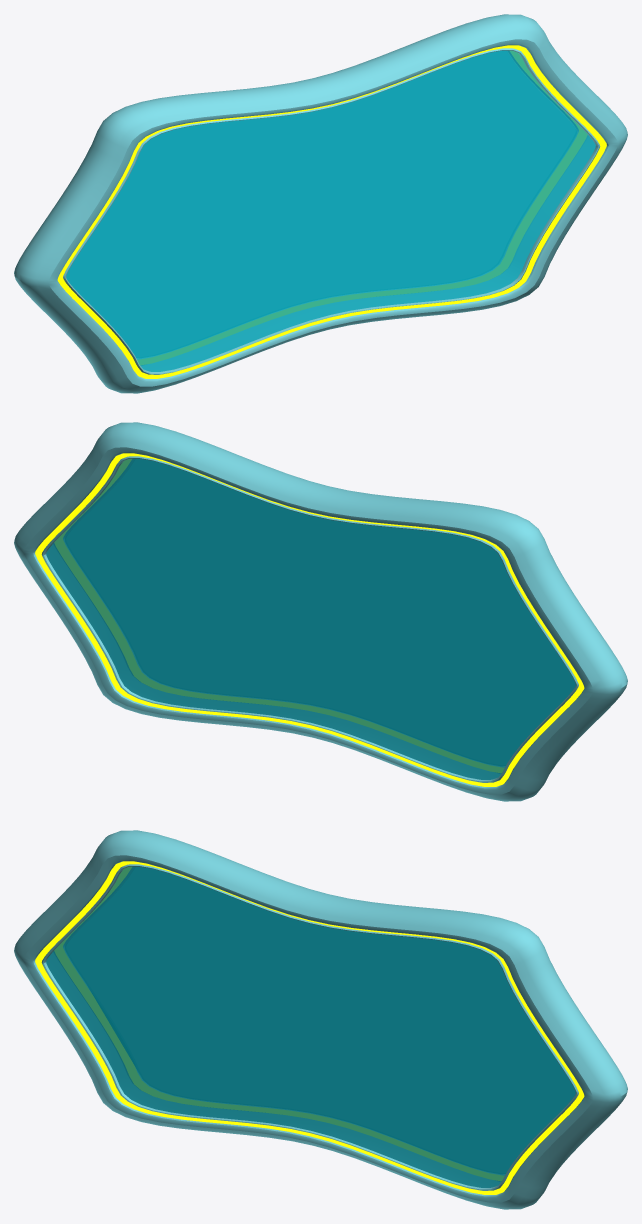
The model's file is holder3d.fbx.
The picture shows the model from 3 angles, top to bottom: view 1: azimuth 30°, elevation 25°; view 2: azimuth 150°, elevation 25°; view 3: azimuth 330°, elevation 25°; orthographic projection.
Visible parts, largest first — view 1: BezierCircle.001; view 2: BezierCircle.001; view 3: BezierCircle.001.
Part boxes in pixels (x1,y1,x2,y2): BezierCircle.001: [14, 14, 627, 393]; BezierCircle.001: [14, 422, 627, 801]; BezierCircle.001: [14, 830, 627, 1209].
Size of the model in its own units: 376 by 168 by 26.57.
